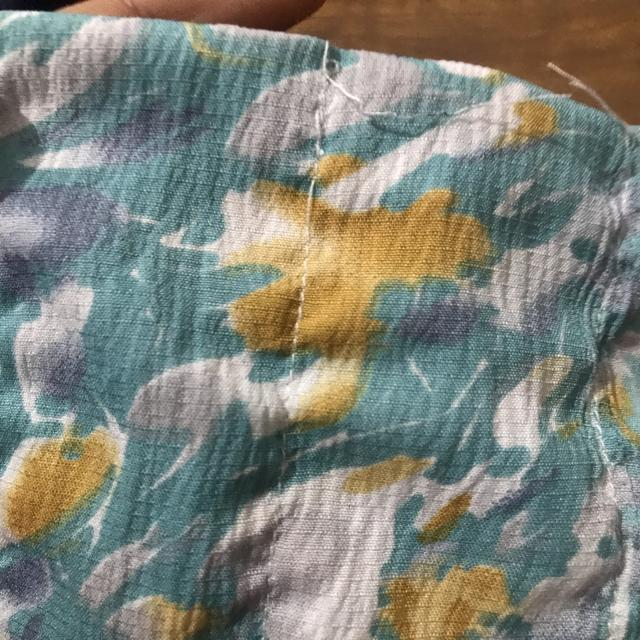skip: (282, 168, 338, 237)
